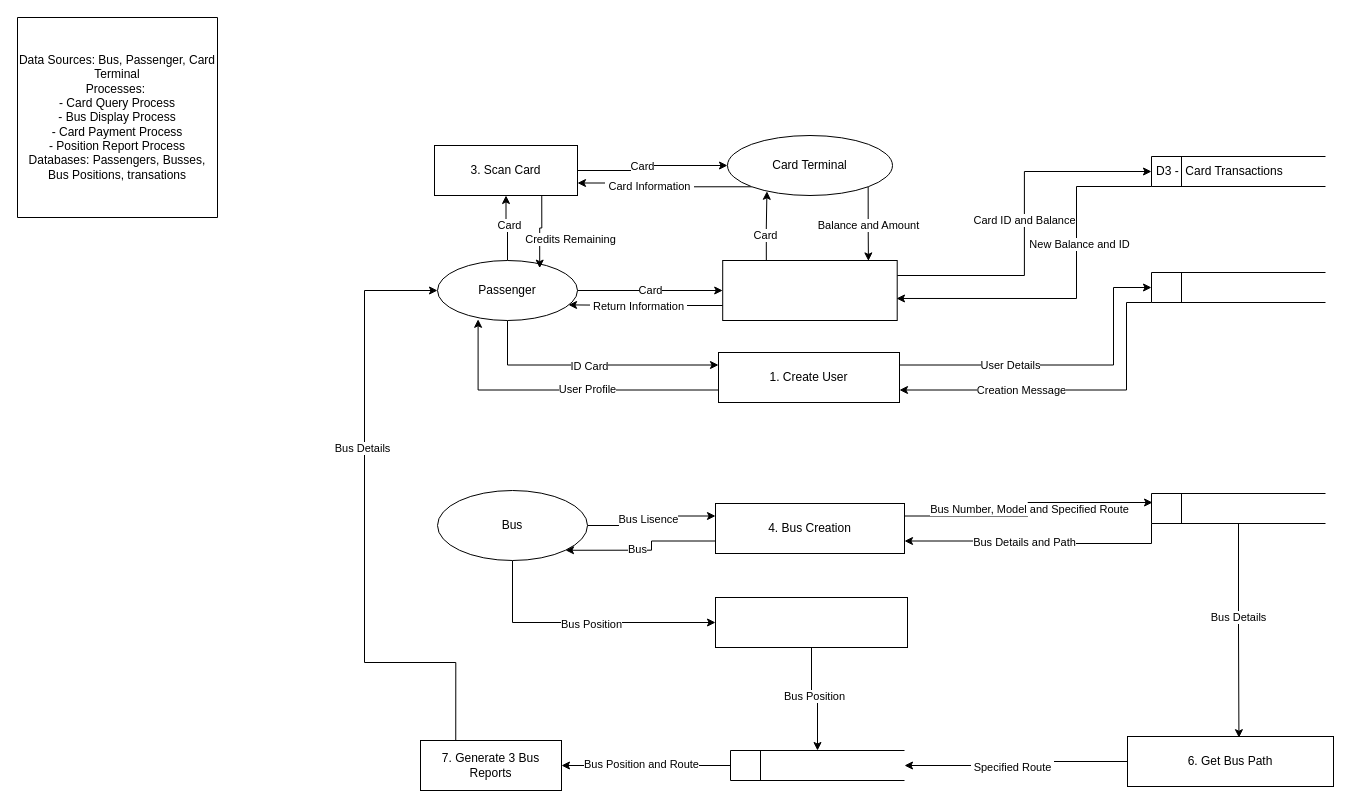
Image size: 1351x808. Some labels were removed from this diagram. Here are the shapes that lost their labels. From the top down, the centre of each, then its label:
At (x=809, y=290): "2. Add Credit to Card".
At (x=1238, y=287): "D1 - Passenger".
At (x=1238, y=508): "D2 - Bus".
At (x=811, y=622): "5. Generate Position Report".
At (x=817, y=765): "D4 - Bus Positions".
